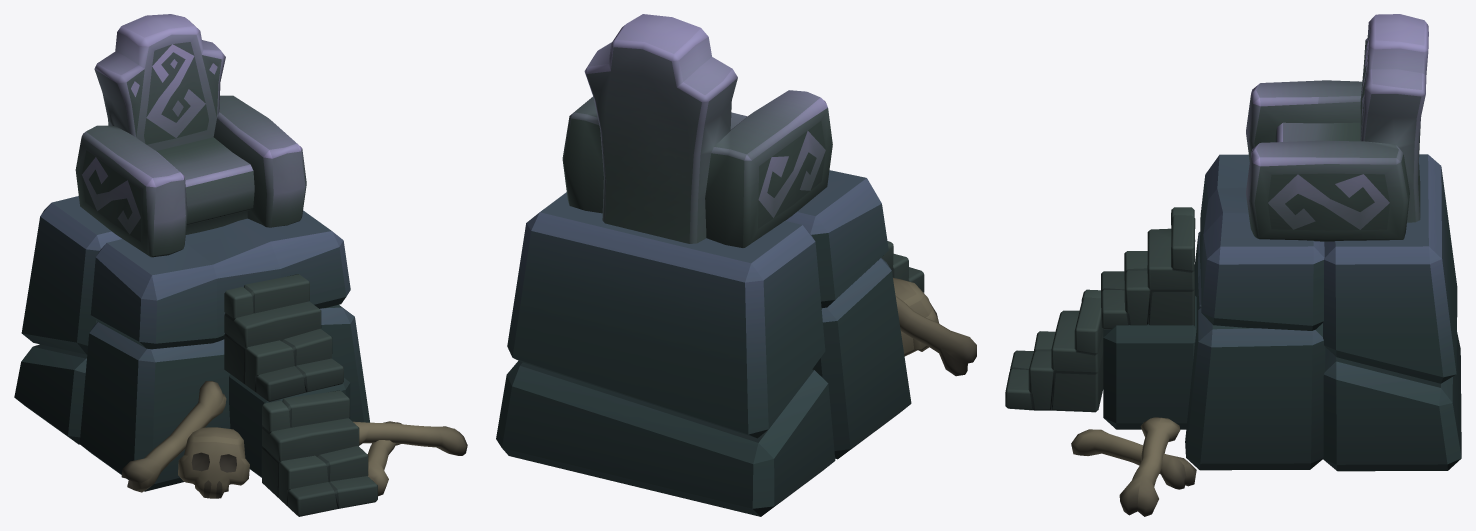
File: throne_dungeon.fbx
3 views of the same model, side by side, from view 1: azimuth 30°, elevation 25°; view 2: azimuth 150°, elevation 25°; view 3: azimuth 270°, elevation 25° (orthographic). The views are drawn at different scales.
Visible parts, largest first — view 1: undead_throne_Lv1; view 2: undead_throne_Lv1; view 3: undead_throne_Lv1.
Part boxes in pixels (x1=…): undead_throne_Lv1: x1=14, y1=14, x2=467, y2=516; undead_throne_Lv1: x1=496, y1=14, x2=976, y2=516; undead_throne_Lv1: x1=1005, y1=14, x2=1461, y2=516.
Size of the model in its own units: 432 by 487 by 475.
